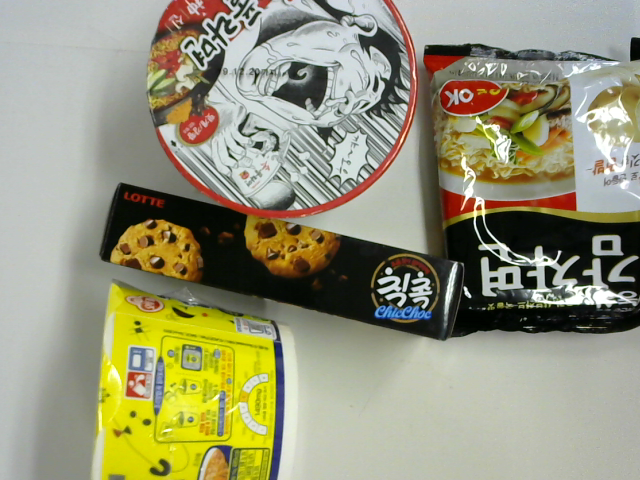Chicchok_Original_2400: (96, 182, 465, 342)
Hejangpul: (147, 1, 418, 218)
Jinlamyeon_Mild_Taste_Large_Cup: (93, 278, 300, 480)
Potato: (422, 39, 640, 339)
